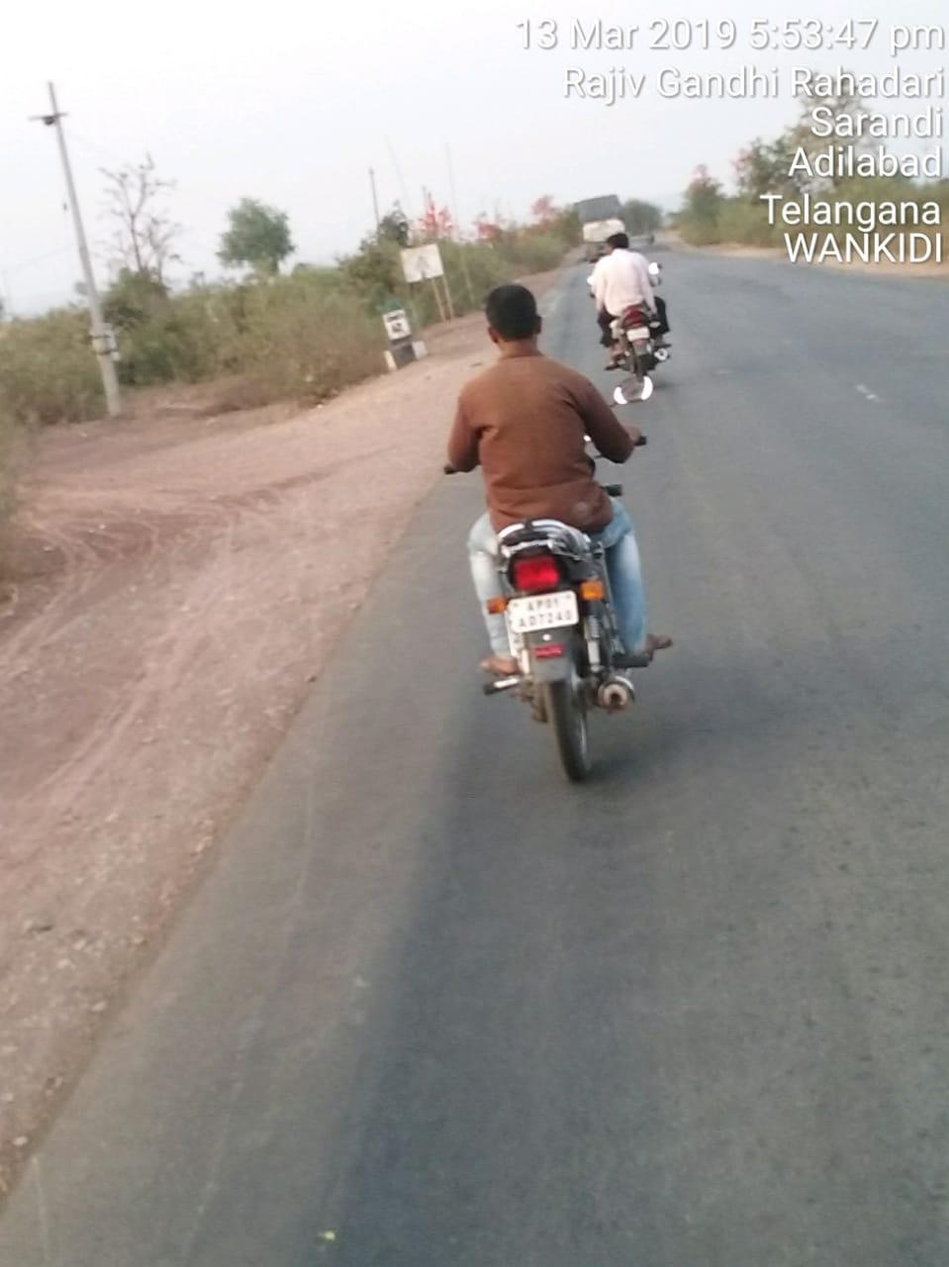plate: (503, 589, 583, 636)
